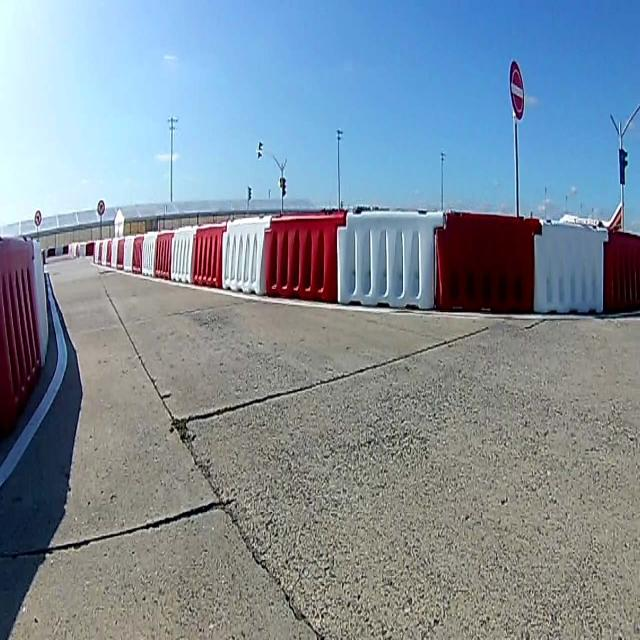girisyok: (507, 58, 527, 122)
